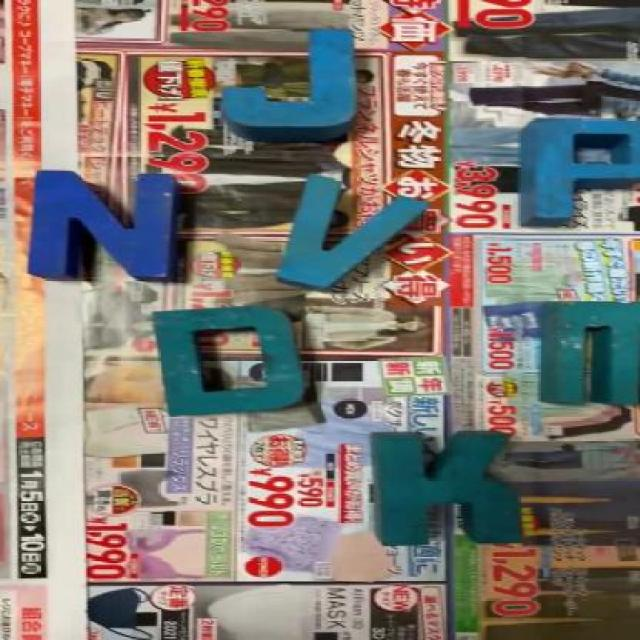D: (154, 308, 309, 417)
J: (219, 29, 361, 140)
K: (378, 430, 522, 547)
N: (32, 172, 179, 282)
P: (527, 117, 639, 221)
V: (273, 179, 432, 286)
